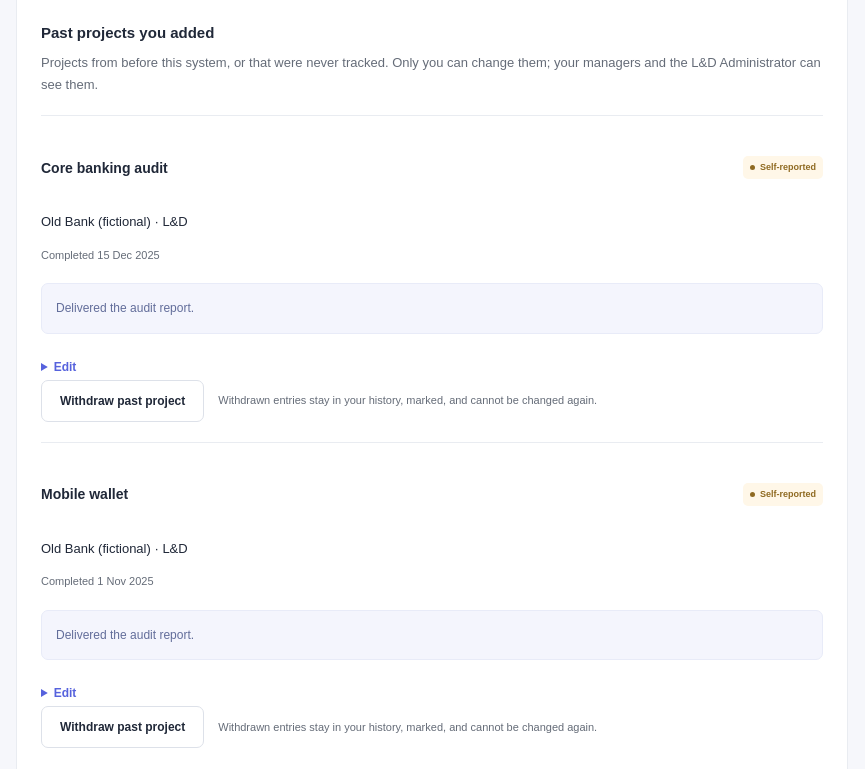
Test case: StaffAttendance past projects (Story 4.7) › withdrawing one entry leaves the other entries' controls enabled
(page scrolled)
Click the button with aria-label "Withdraw past project: Core banking audit" at (123, 401), box [41,380,204,422]
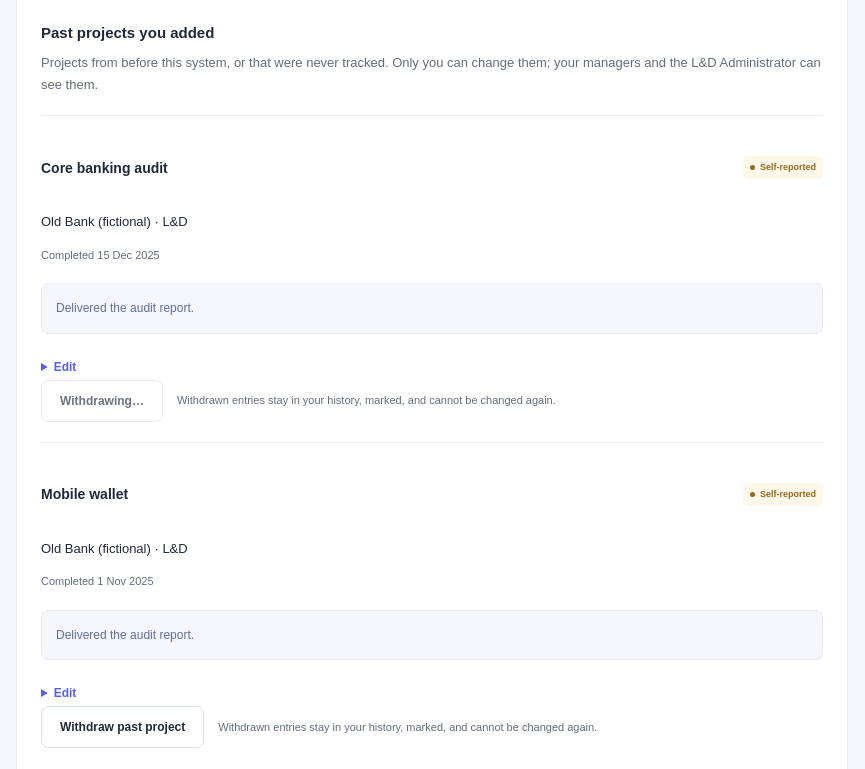
Check: the button with aria-label "Withdraw past project: Mobile wallet" is enabled, box [41,706,204,748]
Check: the button with aria-label "Withdraw past project: Core banking audit" is disabled, box [41,380,163,422]
Click the heading "Edit" below "Mobile wallet" at (65, 693), box [54,686,76,700]
(page scrolled)
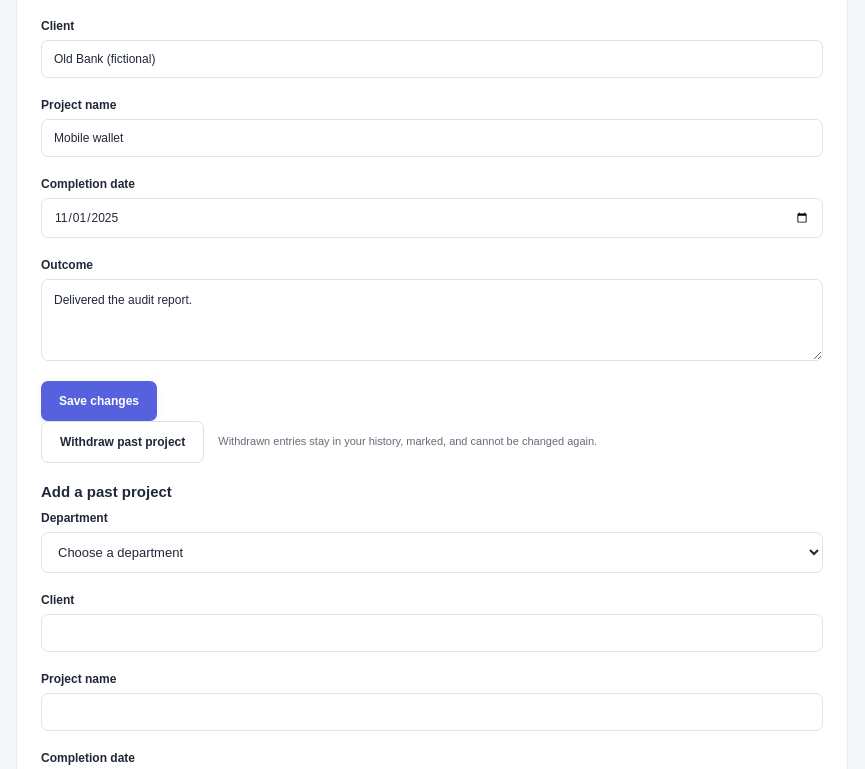
Check: the button "Save changes" is enabled, box [41,381,157,421]
